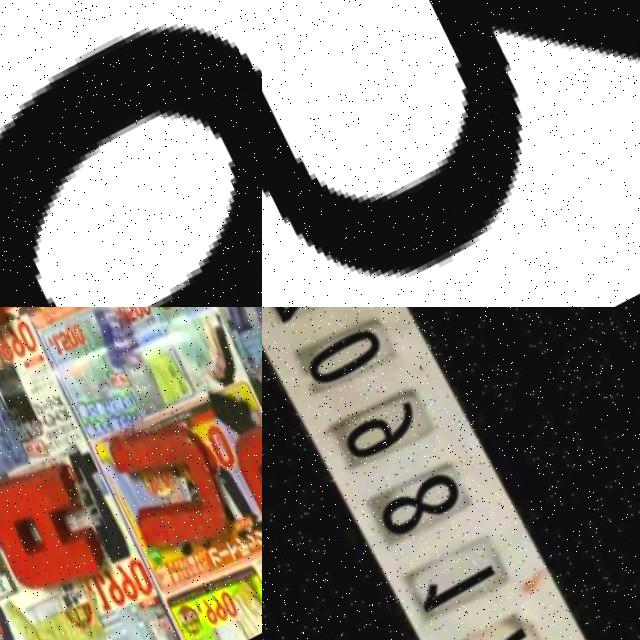0: (278, 307, 399, 413)
1: (381, 523, 512, 640)
7: (416, 599, 547, 640), (262, 307, 368, 344)
8: (346, 445, 481, 570)
9: (0, 0, 262, 307), (314, 376, 436, 490)
A: (0, 455, 100, 619)
O: (213, 397, 262, 571)
R: (262, 0, 640, 307)
U: (88, 403, 239, 587)
